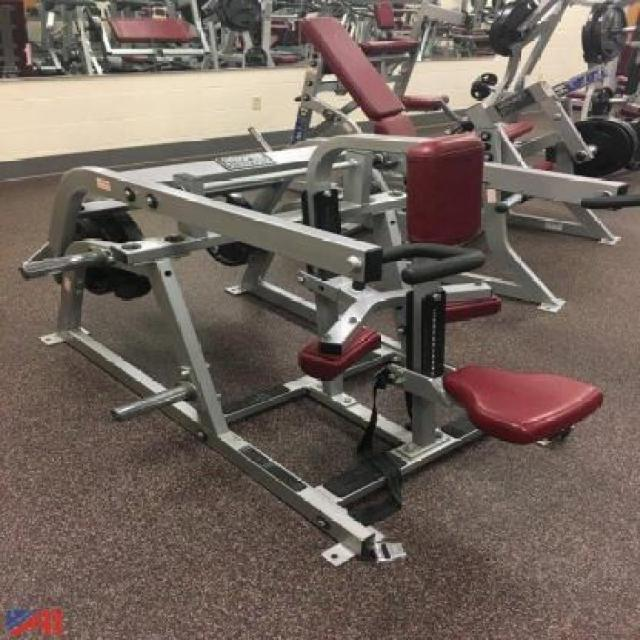seated dip machine: (21, 130, 640, 566)
